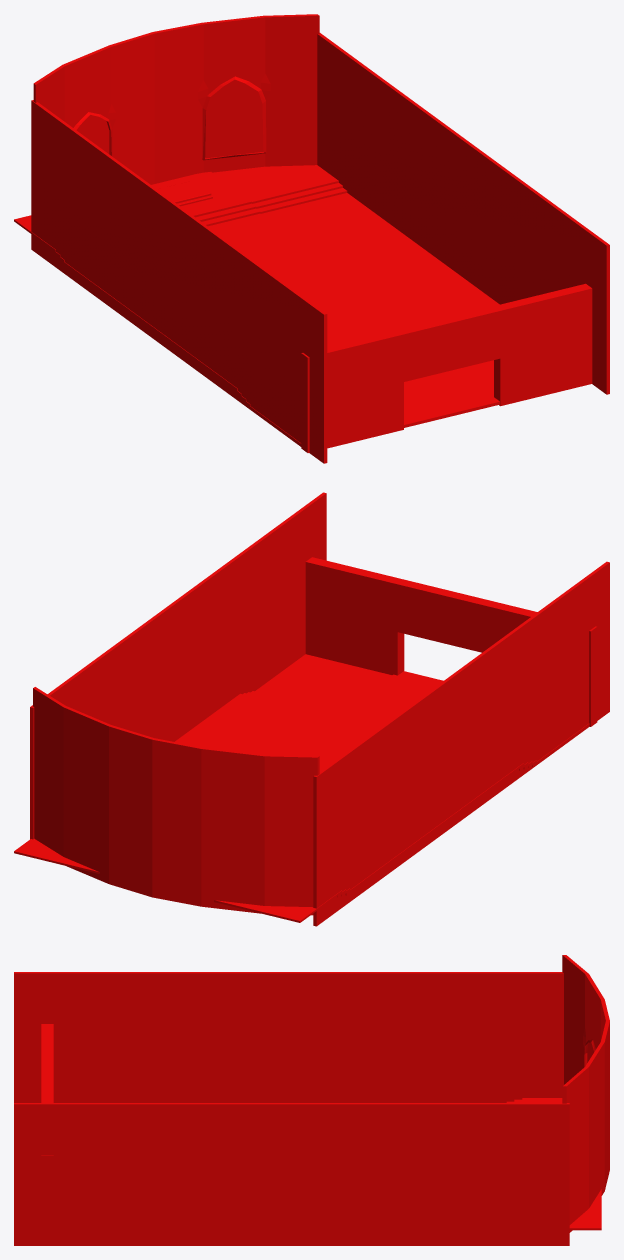
Rendered from throneRoom.FBX.
3 views of the same model, one above another, from view 1: azimuth 30°, elevation 25°; view 2: azimuth 150°, elevation 25°; view 3: azimuth 270°, elevation 25° (orthographic). The views are drawn at different scales.
Parts seen in each view (by area): view 1: throneRoom; view 2: throneRoom; view 3: throneRoom.
Part boxes in pixels (x1,y1,x2,y2): throneRoom: [14, 14, 609, 463]; throneRoom: [14, 492, 609, 926]; throneRoom: [14, 955, 609, 1245].
Bounding box in the file's own units: 2855 × 1578 × 5372.
